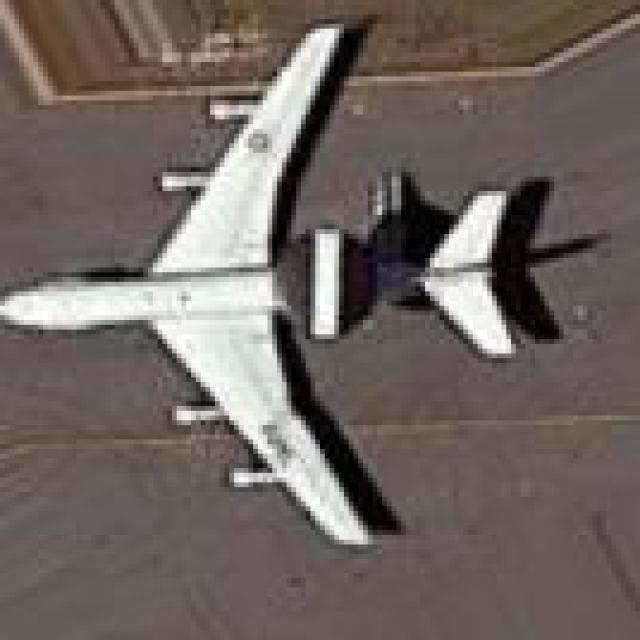E-3_TopDown: (0, 10, 602, 549)
